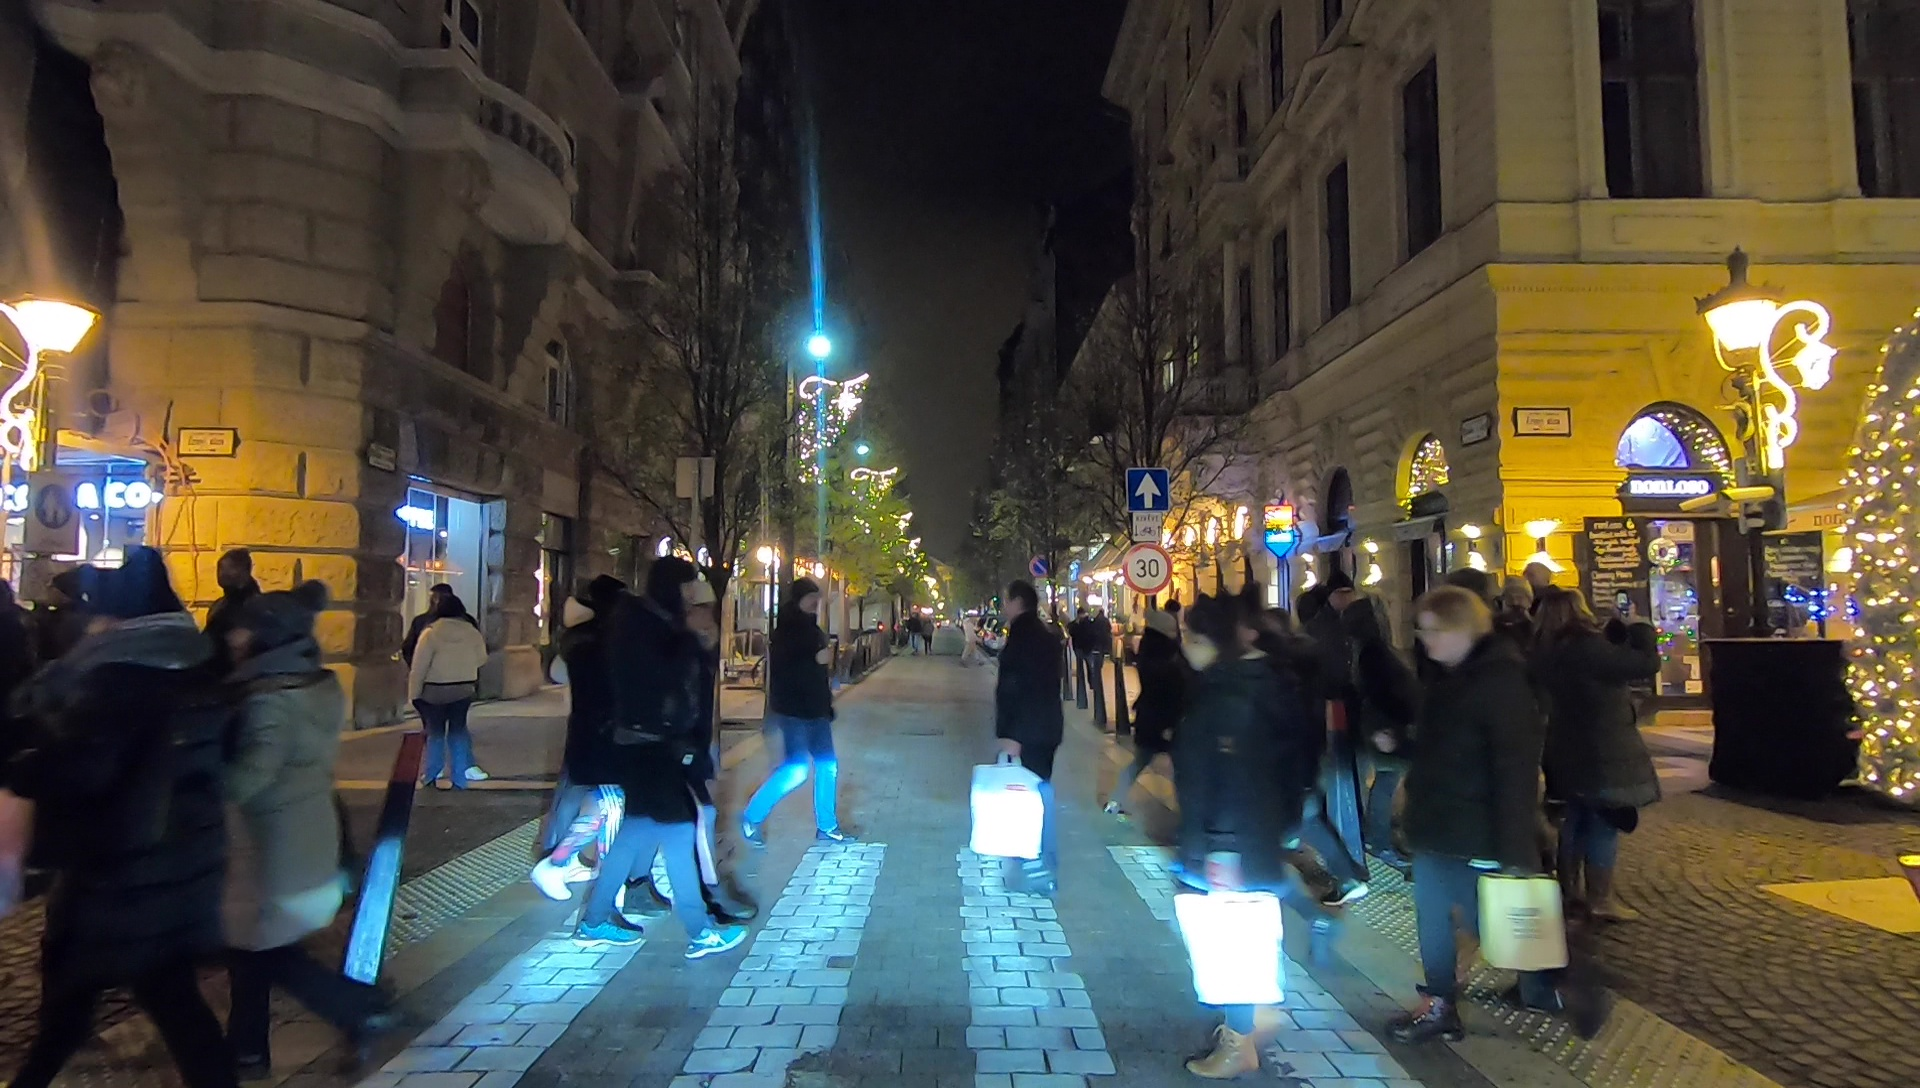person: (1402, 602, 1599, 1065), (58, 560, 221, 1086), (228, 597, 380, 1043), (578, 552, 743, 954), (1143, 610, 1282, 1073), (1541, 597, 1656, 921), (539, 580, 641, 902), (965, 574, 1064, 893), (747, 567, 851, 854), (1117, 606, 1201, 828), (406, 595, 489, 800), (1314, 578, 1362, 858), (1091, 611, 1114, 667), (1064, 610, 1084, 665)
